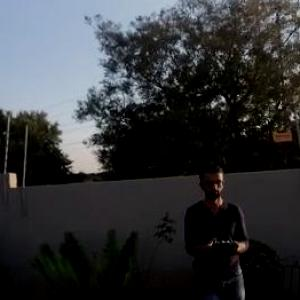follow: (178, 165, 254, 299)
